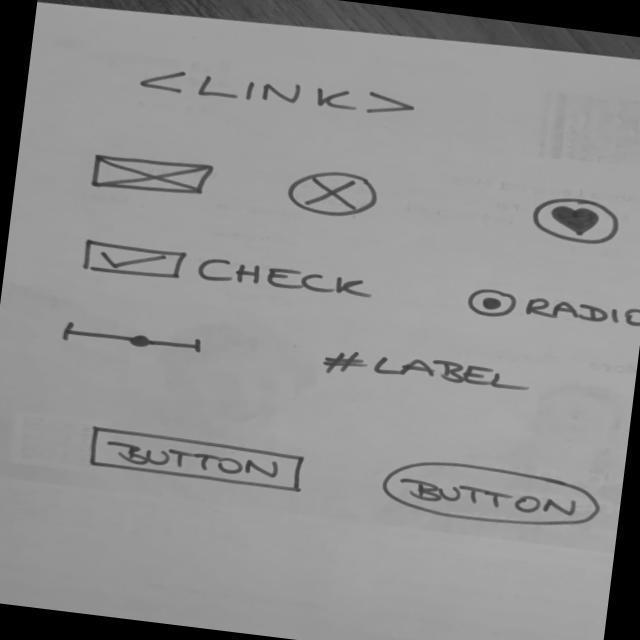button: (377, 453, 611, 541), (81, 422, 314, 497)
checkbox: (79, 235, 383, 310)
icon-button: (528, 189, 628, 250)
image: (83, 147, 220, 205), (284, 165, 383, 224)
label: (317, 342, 535, 401)
link: (135, 62, 423, 126)
radio: (460, 282, 640, 336)
slider: (54, 319, 212, 364)
